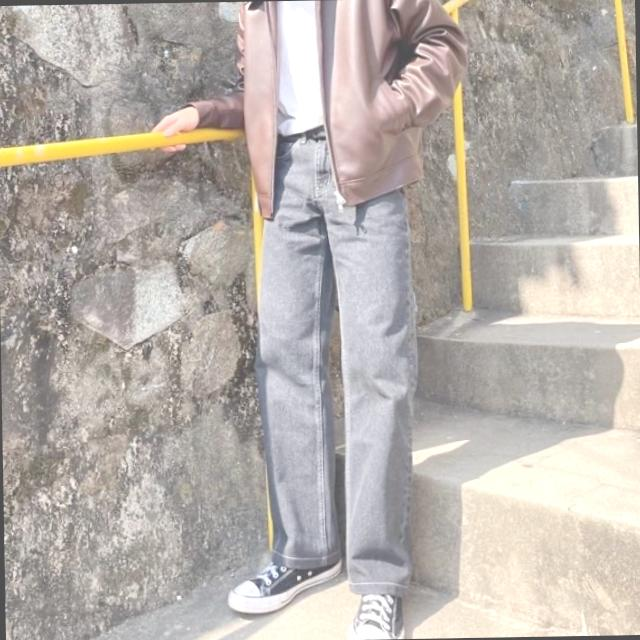denimpants: (254, 130, 420, 600)
jacket: (228, 0, 466, 215)
